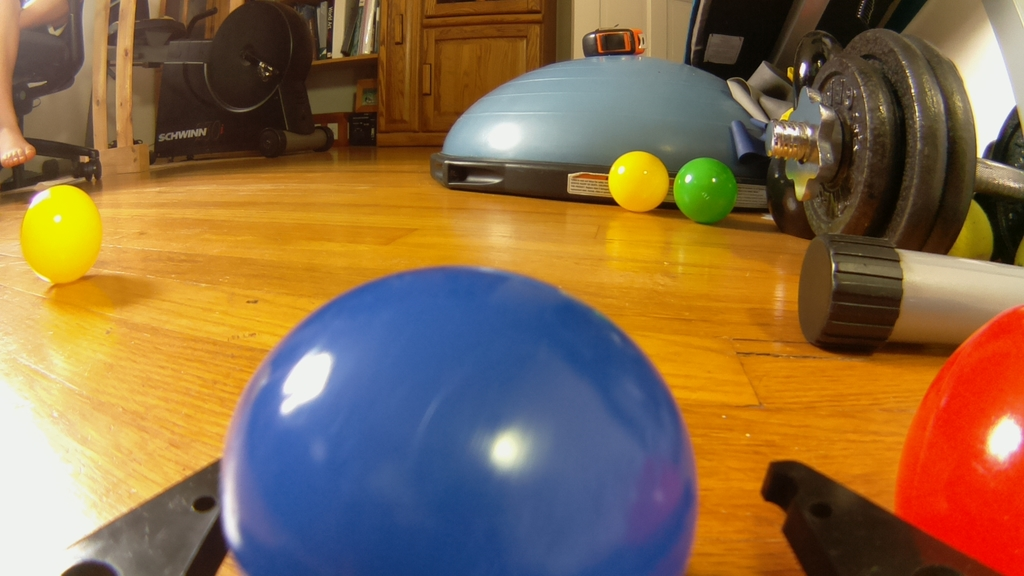ball: (891, 297, 1024, 572)
